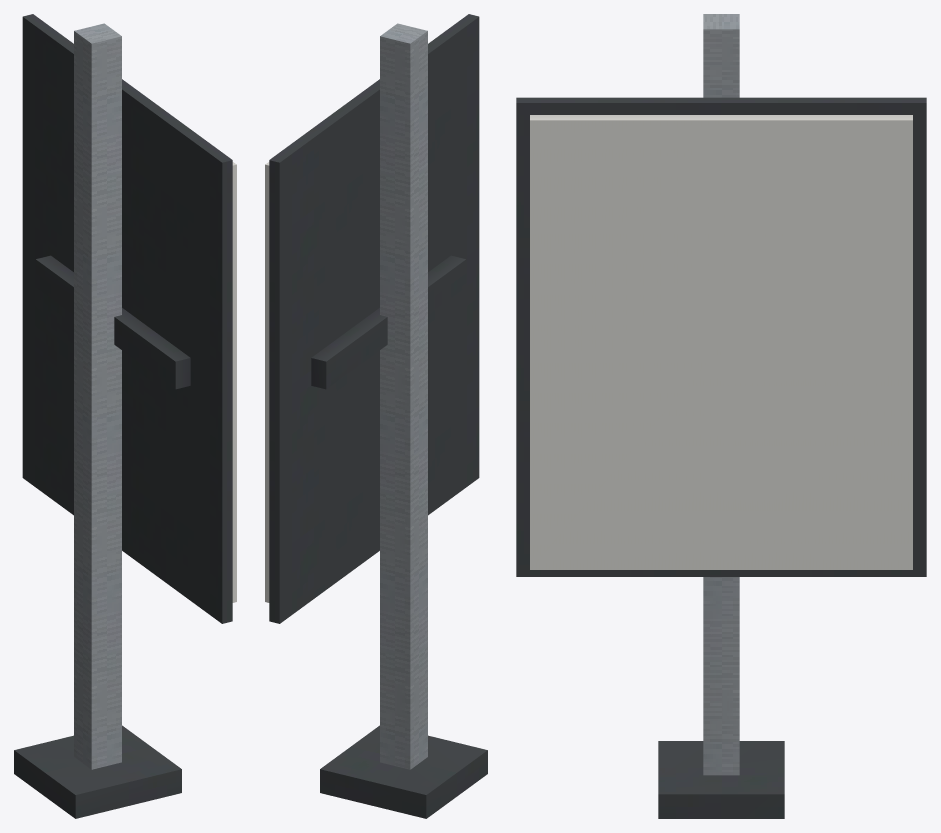
Rendered from kilometre-board_mobile.glb.
The picture shows the model from 3 angles, left to right: view 1: azimuth 30°, elevation 25°; view 2: azimuth 150°, elevation 25°; view 3: azimuth 270°, elevation 25°; orthographic projection. The views are drawn at different scales.
Visible parts, largest first — view 1: dark-steel, galvanised, board-face; view 2: dark-steel, galvanised, board-face; view 3: board-face, dark-steel, galvanised.
Part boxes in pixels (bbox=[...]): dark-steel: bbox=[14, 14, 232, 818]; galvanised: bbox=[74, 23, 121, 769]; board-face: bbox=[232, 162, 236, 602]; dark-steel: bbox=[269, 14, 487, 818]; galvanised: bbox=[380, 23, 427, 769]; board-face: bbox=[265, 162, 269, 602]; board-face: bbox=[530, 115, 912, 569]; dark-steel: bbox=[516, 97, 926, 818]; galvanised: bbox=[703, 14, 739, 775].
Size of the model in its own units: 0.28 by 1.89 by 0.91.
3 materials, 2 textured.
